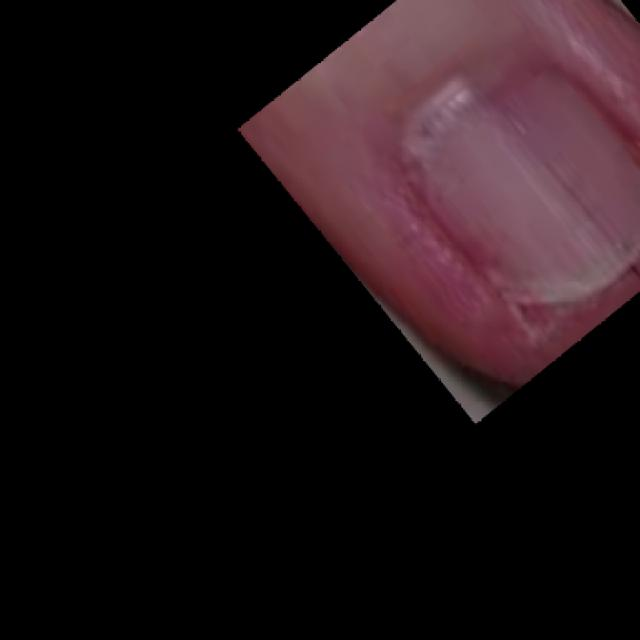Nail: (402, 60, 637, 301)
